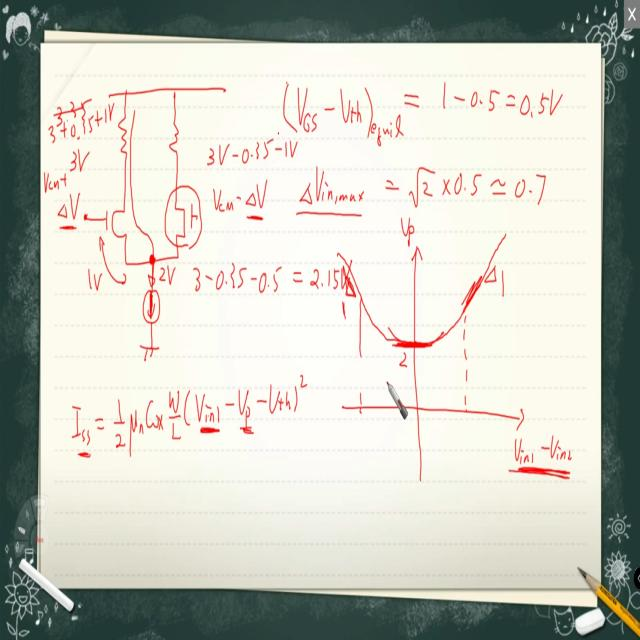panseo: (41, 74, 578, 486)
